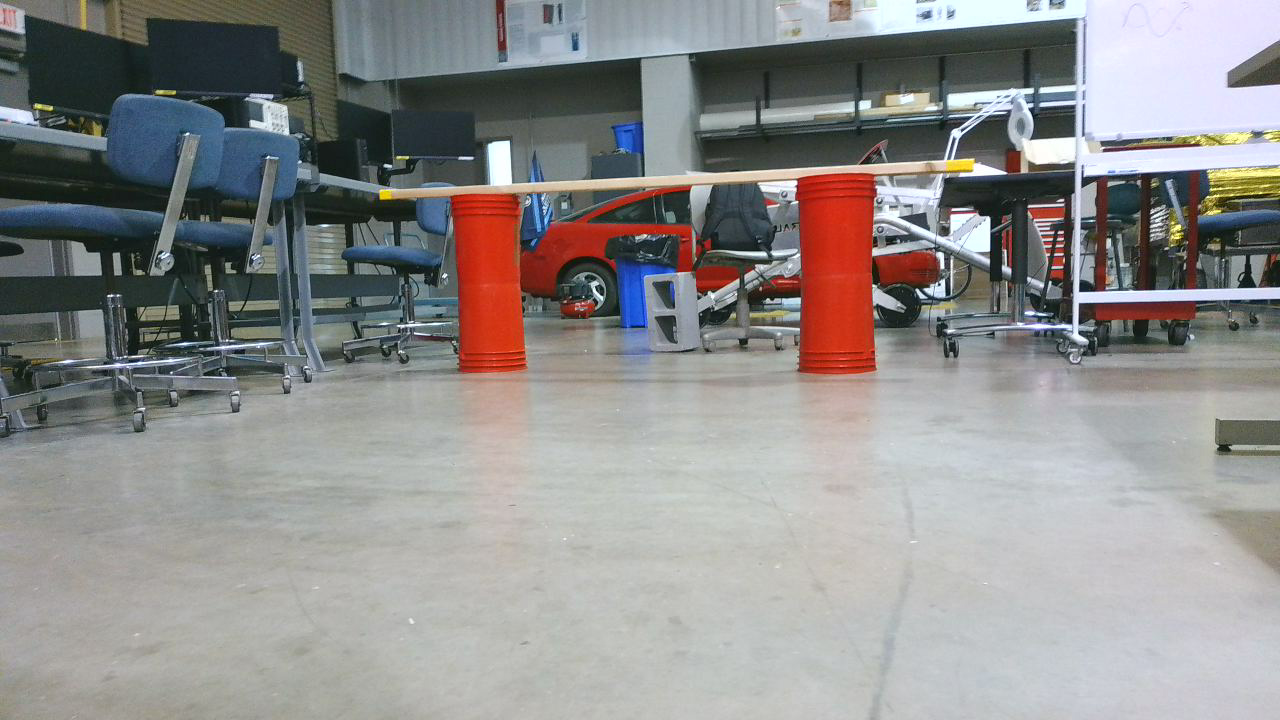red_bucket_arch: (454, 175, 879, 382)
